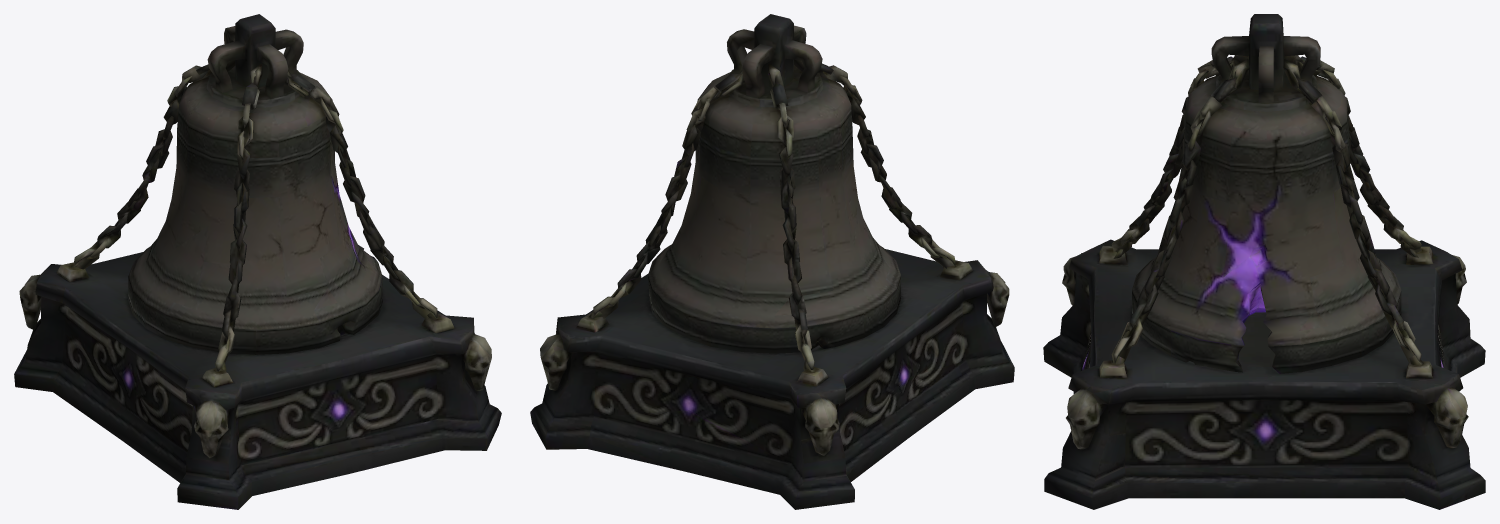
File: bell_altar.glb
The picture shows the model from 3 angles, left to right: view 1: azimuth 30°, elevation 25°; view 2: azimuth 150°, elevation 25°; view 3: azimuth 270°, elevation 25°; orthographic projection. The views are drawn at different scales.
Parts seen in each view (by area): view 1: tripo_node_83efc3cd-8fcf-4b3c-a516-d32835111748; view 2: tripo_node_83efc3cd-8fcf-4b3c-a516-d32835111748; view 3: tripo_node_83efc3cd-8fcf-4b3c-a516-d32835111748.
Boxes of the visible parts, left/top/right/bottom form: tripo_node_83efc3cd-8fcf-4b3c-a516-d32835111748: left=14, top=14, right=501, bottom=509; tripo_node_83efc3cd-8fcf-4b3c-a516-d32835111748: left=530, top=14, right=1014, bottom=509; tripo_node_83efc3cd-8fcf-4b3c-a516-d32835111748: left=1043, top=14, right=1485, bottom=509.
Bounding box in the file's own units: 0.8769 × 0.998 × 0.9747.
1 material, 1 textured.
